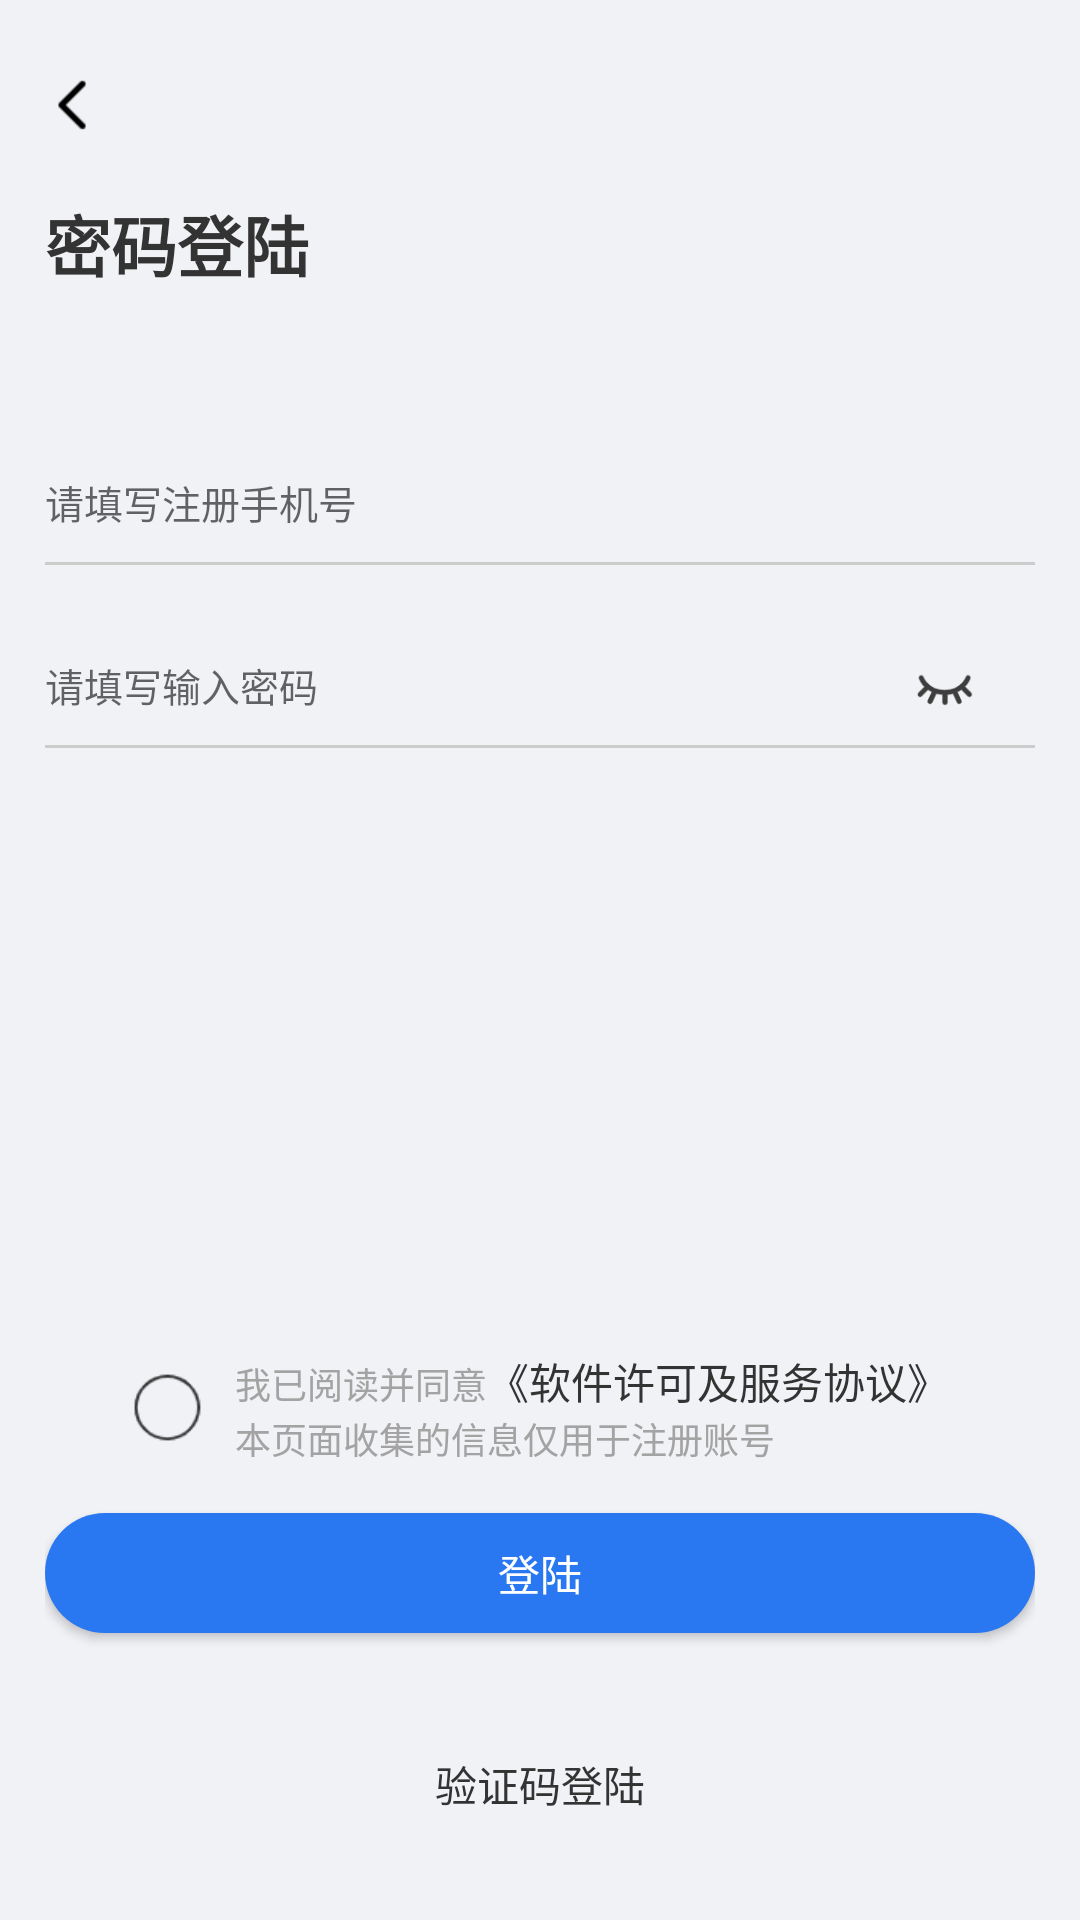

Screen size 1080×1920. Icon name, then its box in pixels as (x1, y1, x2, y2):
back: (58, 80, 86, 130)
selectyan: (917, 675, 972, 705)
selectyuan: (134, 1374, 201, 1441)
